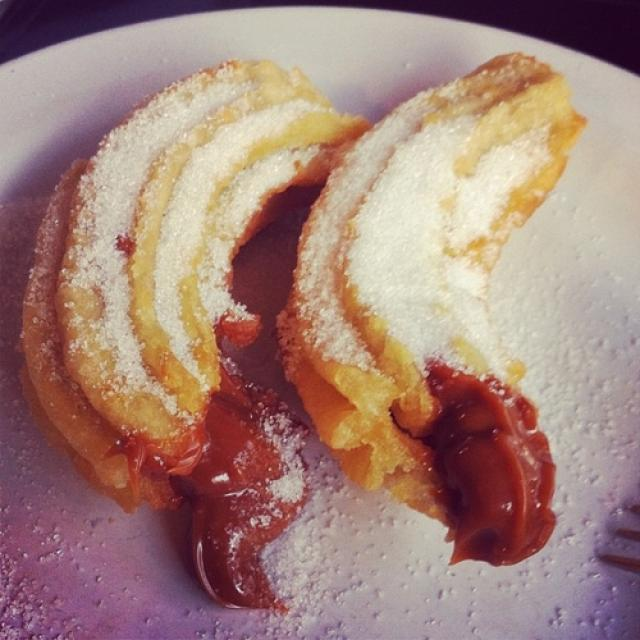炸货点心: (19, 15, 592, 599)
